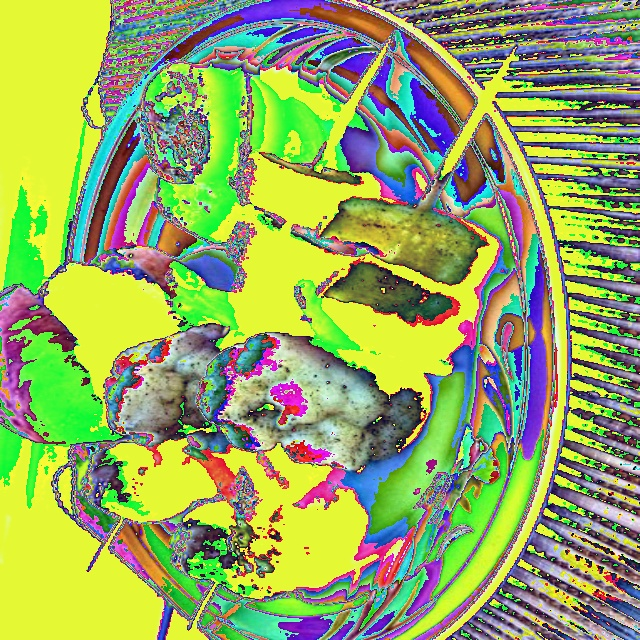background: (0, 62, 498, 601)
